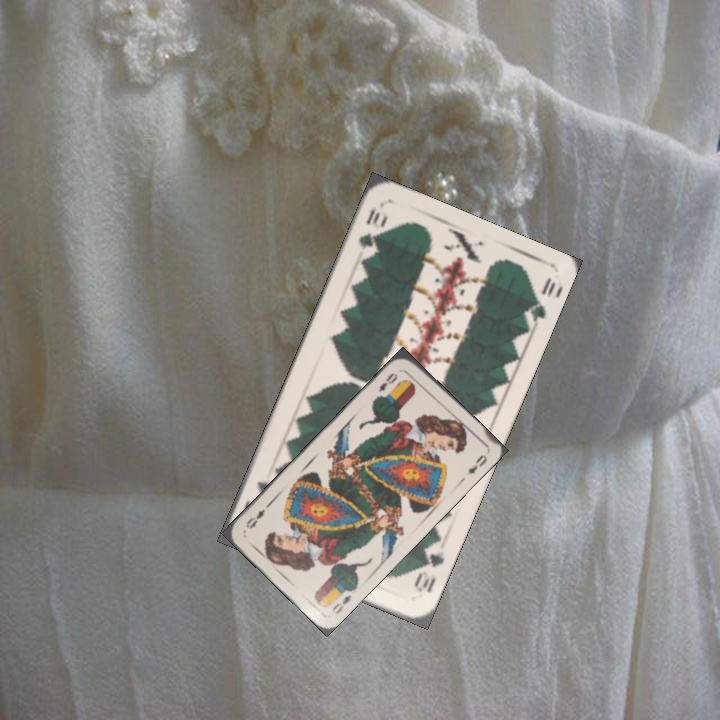EO: (328, 590, 354, 616), (374, 369, 400, 394)
G10: (410, 539, 447, 595), (354, 204, 384, 251)
